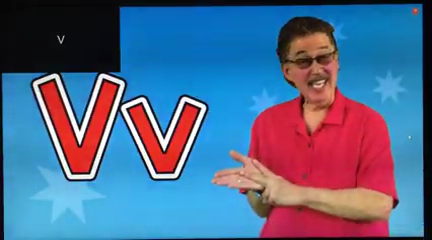V: (206, 146, 309, 212)
